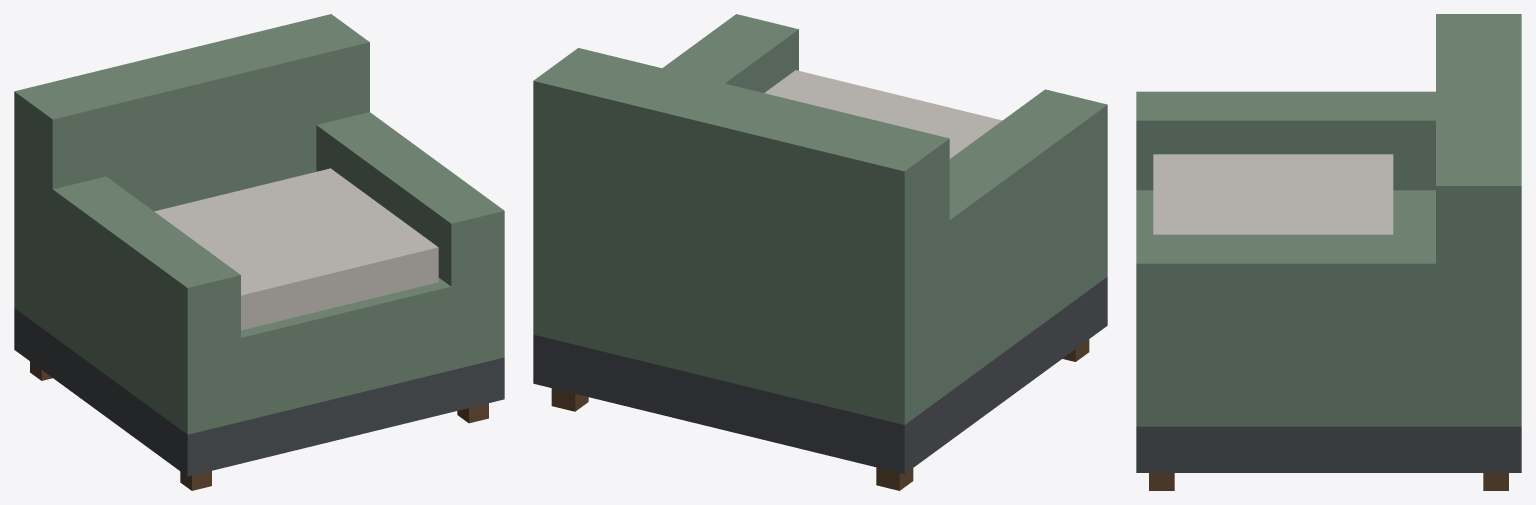
The model's file is armchair.glb.
3 renders of one model, left to right at view 1: azimuth 30°, elevation 25°; view 2: azimuth 150°, elevation 25°; view 3: azimuth 270°, elevation 25°, orthographic. The views are drawn at different scales.
Parts seen in each view (by area): view 1: armchair; view 2: armchair; view 3: armchair.
Part boxes in pixels (x1,y1,x2,y2): armchair: [14, 14, 504, 490]; armchair: [533, 14, 1107, 490]; armchair: [1136, 14, 1521, 490].
Size of the model in its own units: 0.95 by 0.8 by 0.9.
